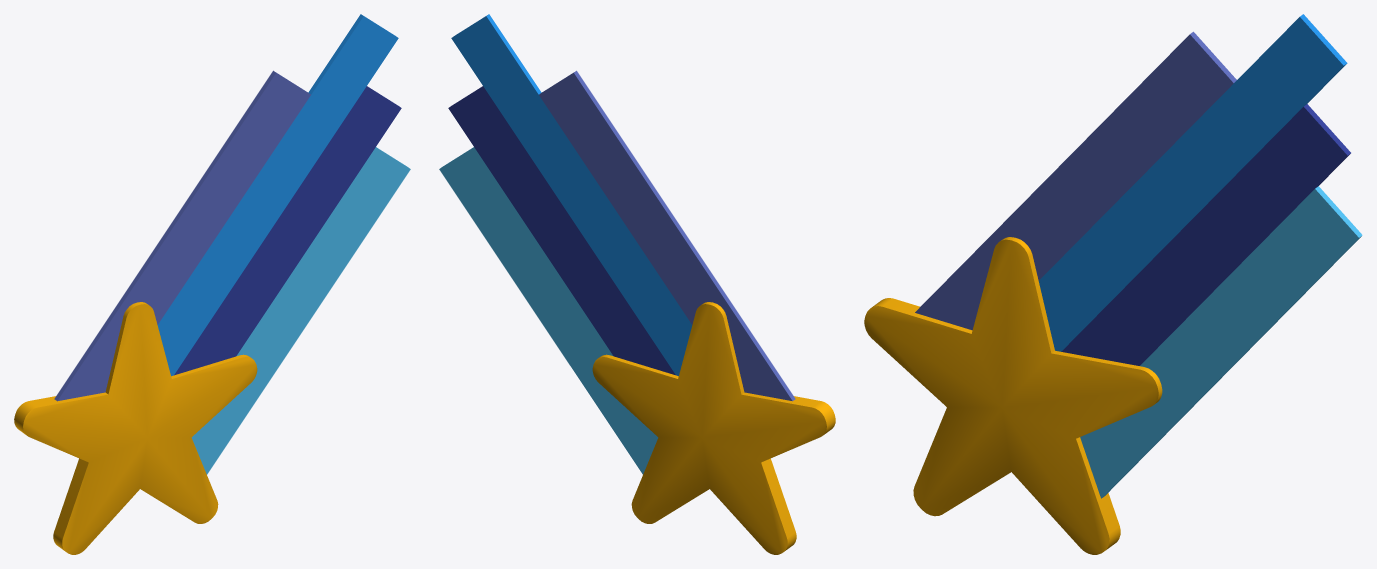
The model's file is shooting_star.glb.
3 renders of one model, left to right at view 1: azimuth 30°, elevation 25°; view 2: azimuth 150°, elevation 25°; view 3: azimuth 330°, elevation 25°, orthographic. The views are drawn at different scales.
Parts seen in each view (by area): view 1: Circle.2114; view 2: Circle.2114; view 3: Circle.2114.
Boxes of the visible parts, left/top/right/bottom form: Circle.2114: left=14, top=14, right=410, bottom=554; Circle.2114: left=439, top=14, right=835, bottom=554; Circle.2114: left=864, top=14, right=1362, bottom=554.
Size of the model in its own units: 1.96 by 2.23 by 0.2076.
1 material, 1 textured.
